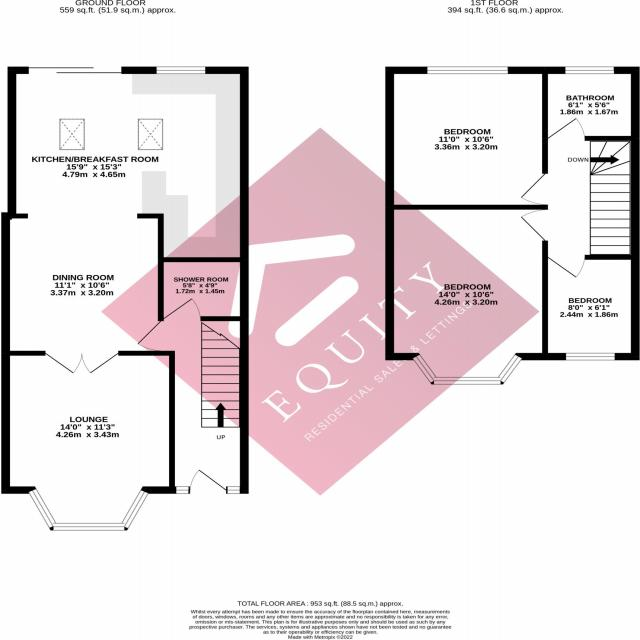DOOR: (157, 294, 203, 322), (543, 254, 589, 281), (133, 319, 165, 356), (547, 114, 588, 142), (516, 207, 548, 242), (519, 171, 548, 208), (189, 468, 227, 494)
DOUBLE DOOR: (39, 351, 124, 377)
ROOM: (0, 67, 249, 380), (2, 351, 176, 531), (385, 204, 548, 385), (385, 66, 548, 210), (542, 253, 640, 360)
WINDOW: (25, 486, 152, 532), (409, 353, 524, 386), (426, 64, 509, 76), (155, 63, 207, 76), (563, 64, 617, 75), (565, 351, 617, 361), (175, 485, 190, 495), (226, 485, 240, 494)
